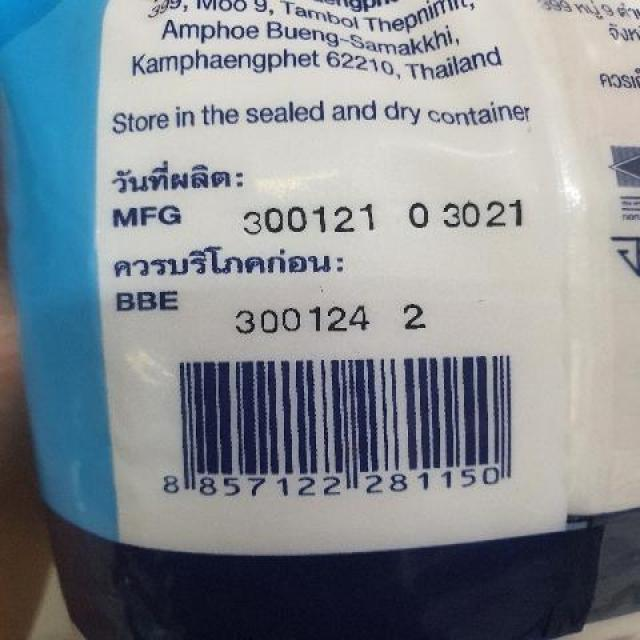Barcode: (154, 346, 526, 505)
